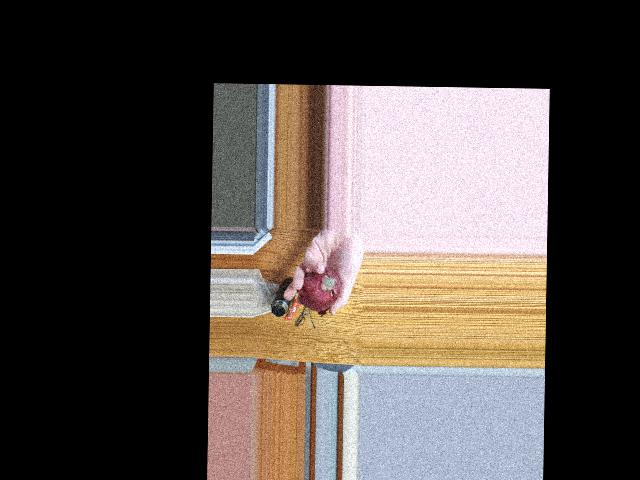onion: (301, 267, 341, 307)
